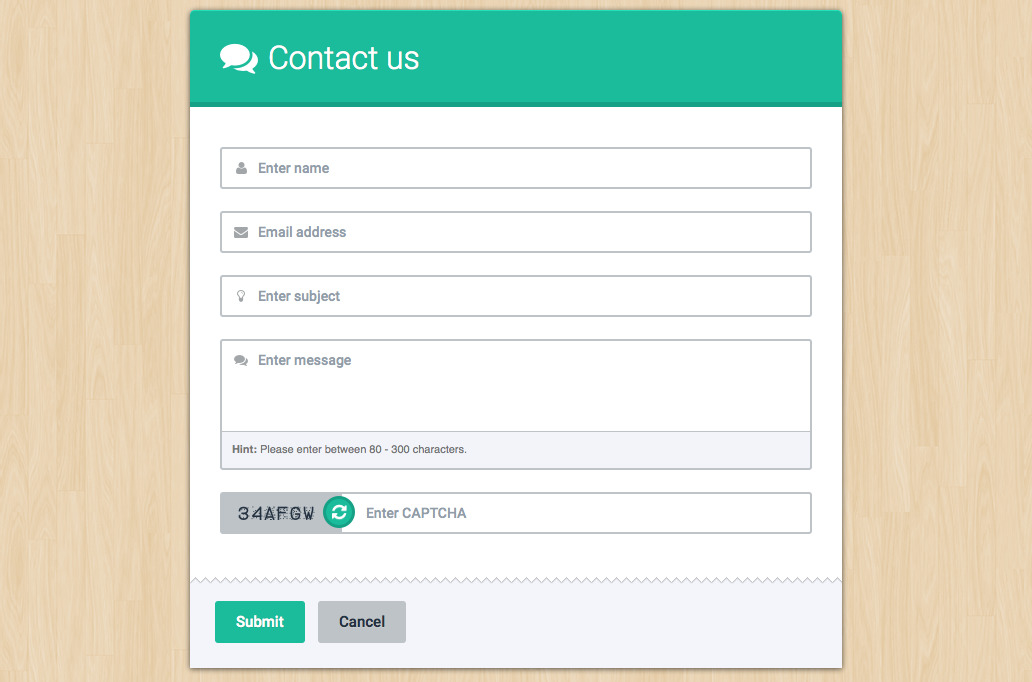_form_: (204, 264, 821, 682), (203, 134, 820, 551)
button: (213, 598, 307, 647), (314, 597, 409, 644)
field: (216, 337, 815, 470), (217, 274, 815, 321), (217, 209, 813, 256), (218, 145, 813, 192), (336, 490, 814, 535)
